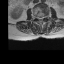CCS_normal: (39, 15, 41, 22)
LFS_stenosis: (43, 14, 45, 19)
LLS_normal: (41, 15, 43, 22)
RFS_normal: (35, 15, 38, 19)
RLS_normal: (37, 15, 39, 21)
